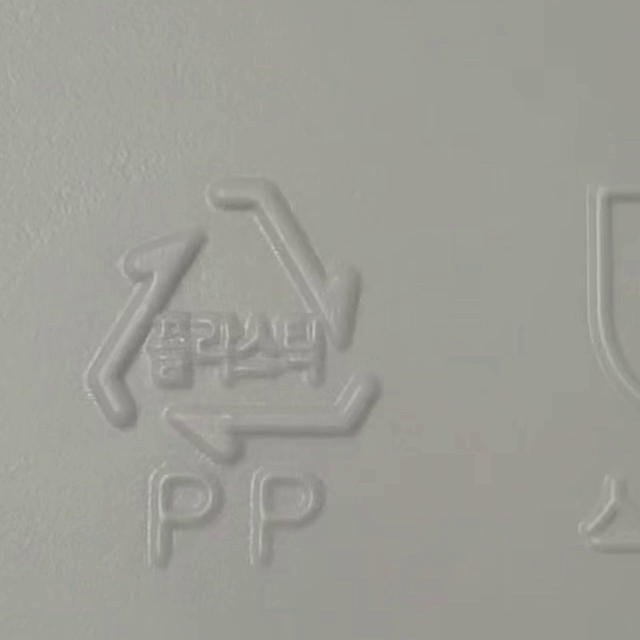Plastic: (87, 180, 390, 466)
